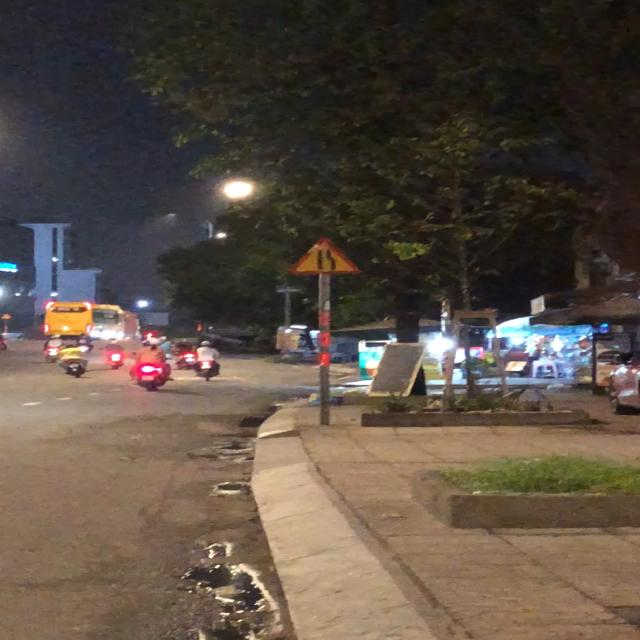Bien bao duong bi thu hep: (281, 230, 368, 278)
